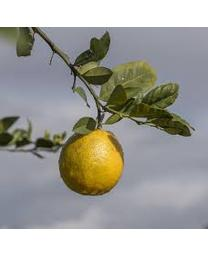lemon: (60, 128, 125, 197)
